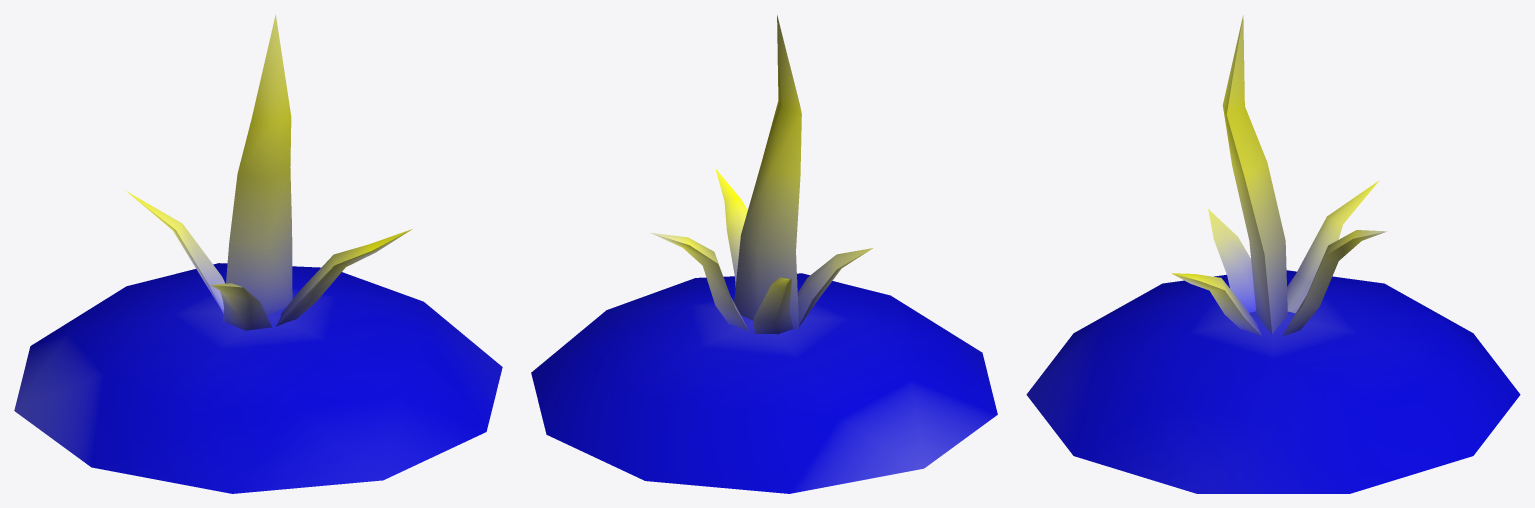
Rendered from Gelplant2.fbx.
3 views of the same model, side by side, from view 1: azimuth 30°, elevation 25°; view 2: azimuth 150°, elevation 25°; view 3: azimuth 270°, elevation 25° (orthographic). The views are drawn at different scales.
Visible parts, largest first — view 1: Gelplant..004; view 2: Gelplant..004; view 3: Gelplant..004.
Part boxes in pixels (x1,y1,x2,y2): Gelplant..004: (14, 14, 502, 493); Gelplant..004: (531, 15, 997, 493); Gelplant..004: (1026, 15, 1520, 493).
Bounding box in the file's own units: 72.21 × 64.7 × 75.93.
